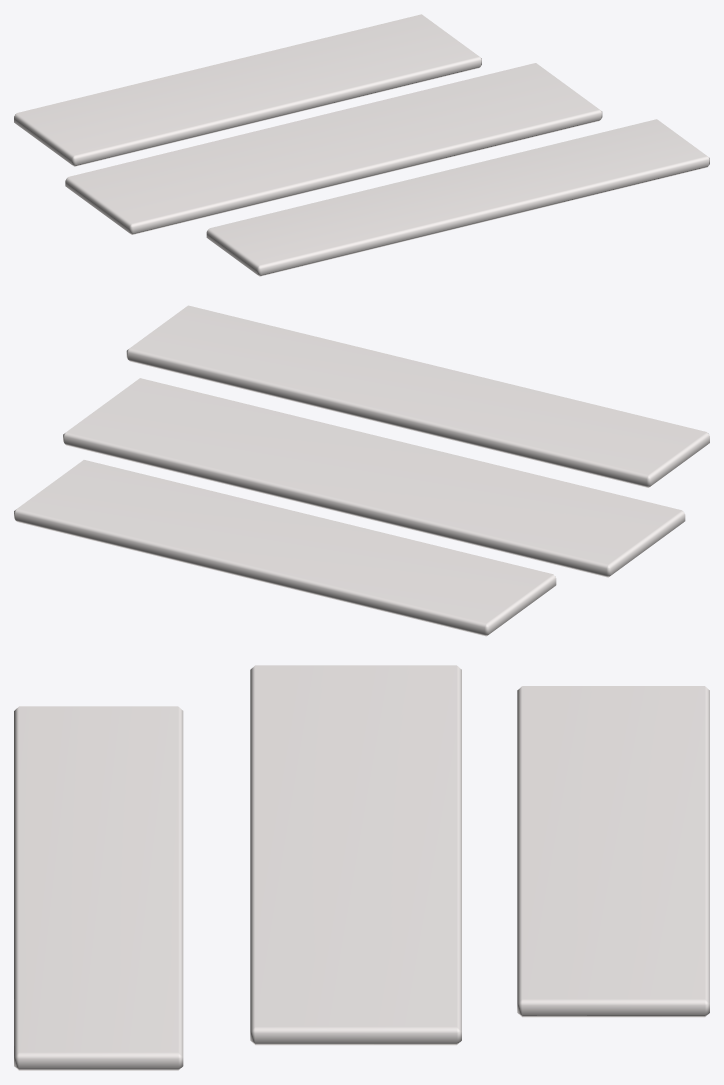
File: Farm_9_Path_2.glb
The picture shows the model from 3 angles, top to bottom: view 1: azimuth 30°, elevation 25°; view 2: azimuth 150°, elevation 25°; view 3: azimuth 270°, elevation 25°; orthographic projection. The views are drawn at different scales.
Visible parts, largest first — view 1: Farm_9_Path_2; view 2: Farm_9_Path_2; view 3: Farm_9_Path_2.
Boxes of the visible parts, x1,y1,x2,y2 form: Farm_9_Path_2: (14, 14, 709, 276); Farm_9_Path_2: (14, 305, 709, 636); Farm_9_Path_2: (14, 665, 709, 1070).
Size of the model in its own units: 3.01 by 0.0661 by 2.27.
1 material, 1 textured.
